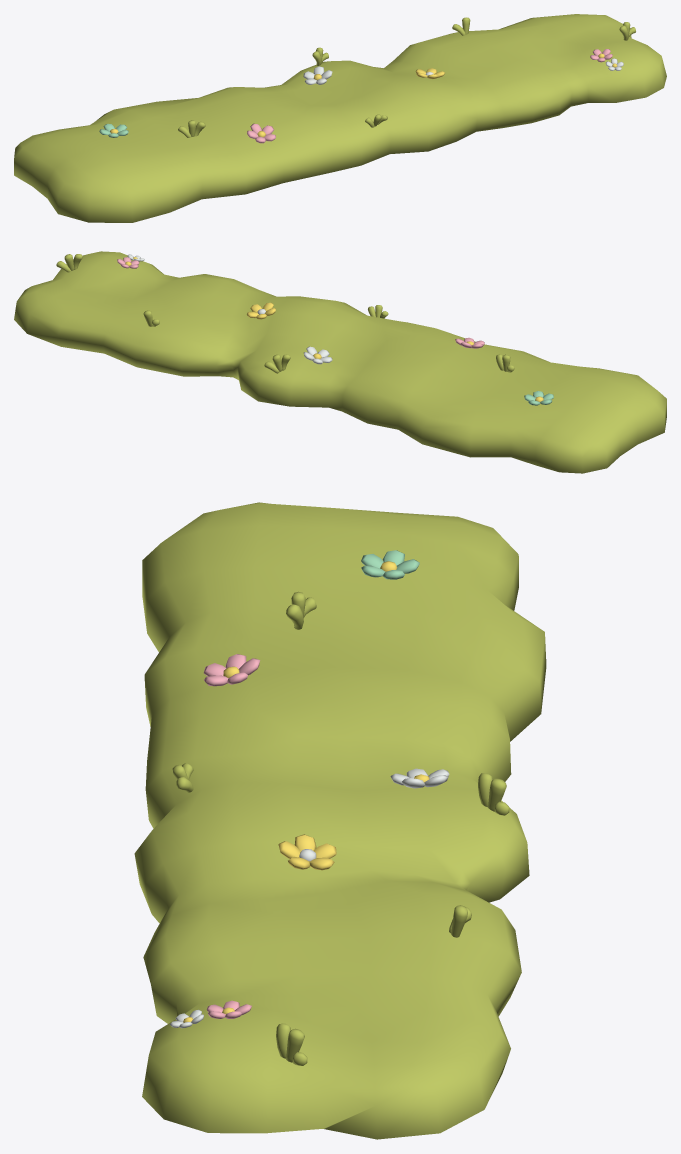
The model's file is Grass_02.fbx.
3 views of the same model, one above another, from view 1: azimuth 30°, elevation 25°; view 2: azimuth 150°, elevation 25°; view 3: azimuth 270°, elevation 25° (orthographic). The views are drawn at different scales.
Parts seen in each view (by area): view 1: Grass_02; view 2: Grass_02; view 3: Grass_02.
Boxes of the visible parts, <box> form: Grass_02: <box>14,14,666,222</box>; Grass_02: <box>14,251,666,473</box>; Grass_02: <box>134,502,546,1139</box>.
Size of the model in its own units: 902 by 70.83 by 266.
